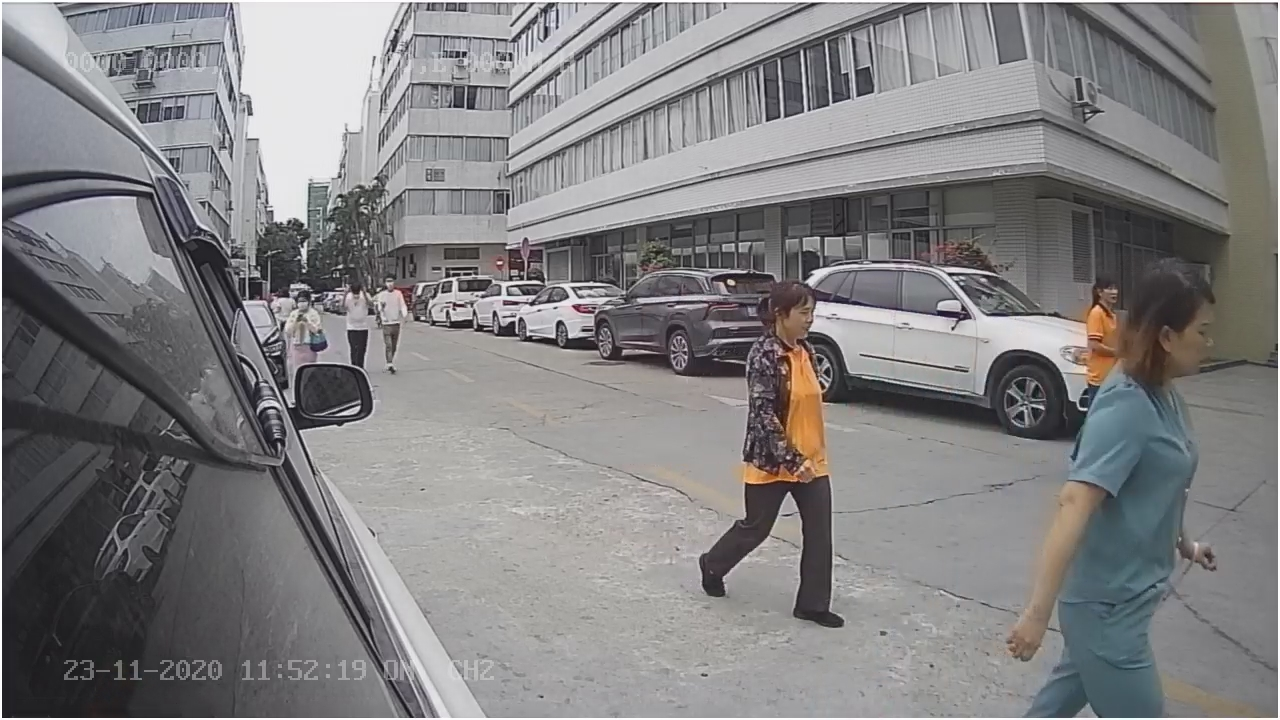person: (1032, 265, 1213, 699), (731, 275, 840, 646)
